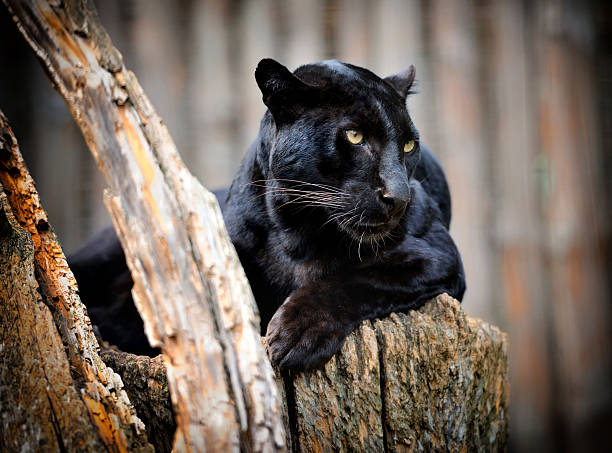panther: (240, 34, 470, 269)
